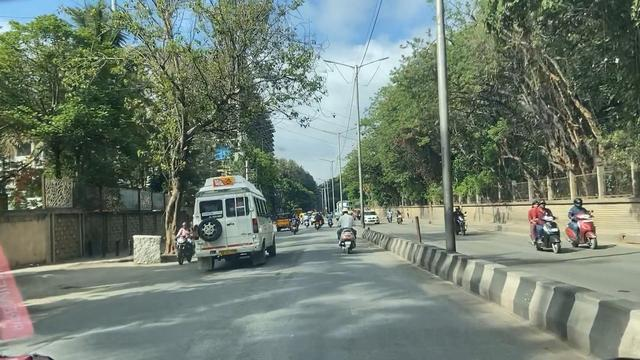HMV: (194, 172, 274, 273)
LMV: (337, 203, 362, 256)
